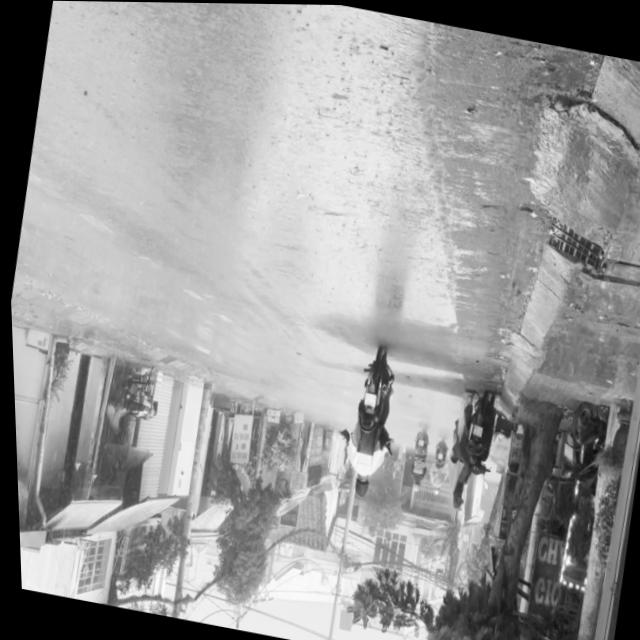licenseplate: (329, 342, 400, 500)
nohelmet: (358, 391, 371, 407)
